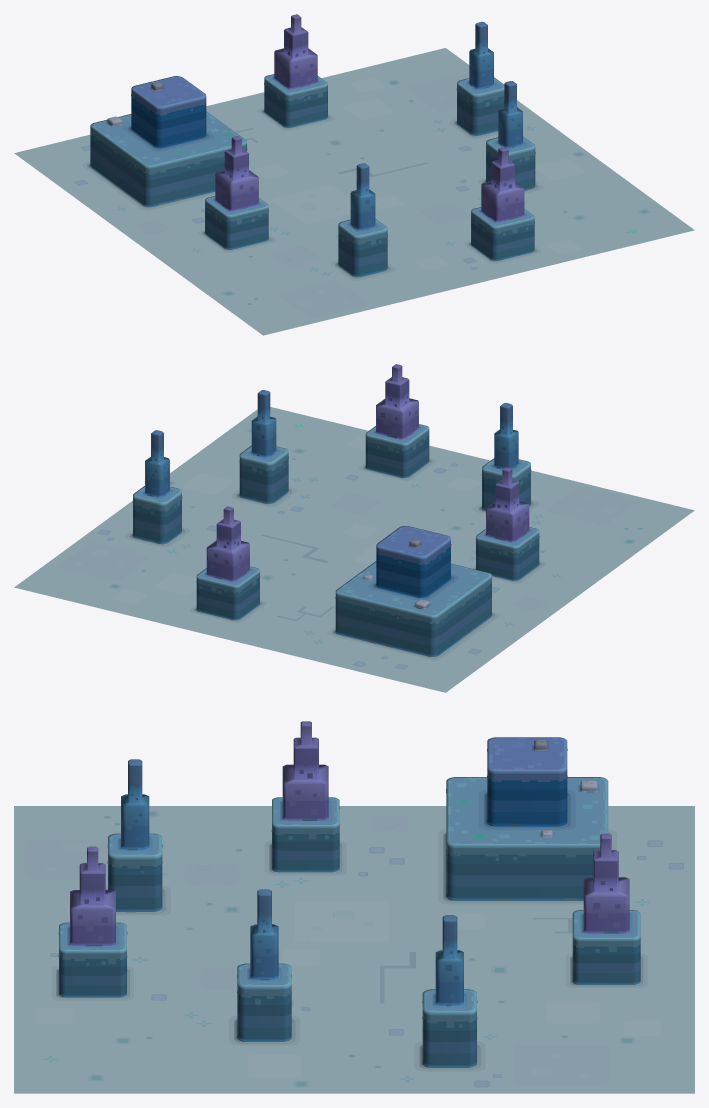
Rendered from C_mountain2_02.fbx.
The picture shows the model from 3 angles, top to bottom: view 1: azimuth 30°, elevation 25°; view 2: azimuth 150°, elevation 25°; view 3: azimuth 270°, elevation 25°; orthographic projection. The views are drawn at different scales.
Parts seen in each view (by area): view 1: C_mountain2_02; view 2: C_mountain2_02; view 3: C_mountain2_02.
Part boxes in pixels (<box>): C_mountain2_02: <box>14,14,694,335</box>; C_mountain2_02: <box>14,364,694,692</box>; C_mountain2_02: <box>14,721,694,1093</box>.
Size of the model in its own units: 50 by 11.39 by 50.
